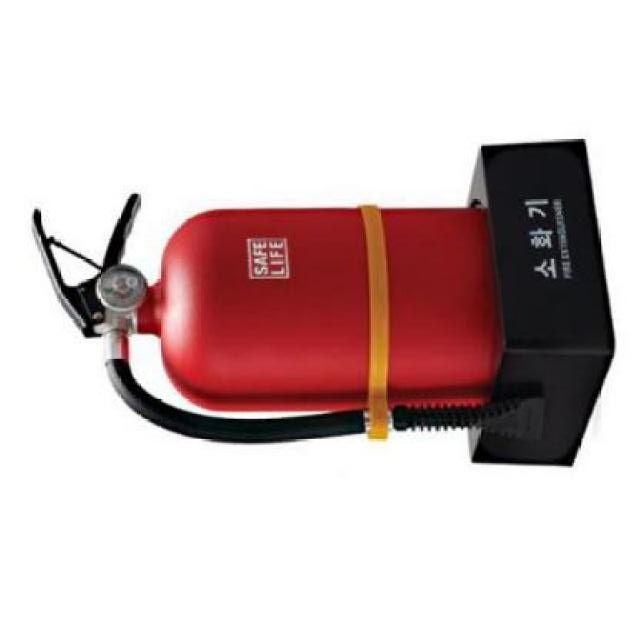fire extinguisher: (30, 192, 547, 445)
